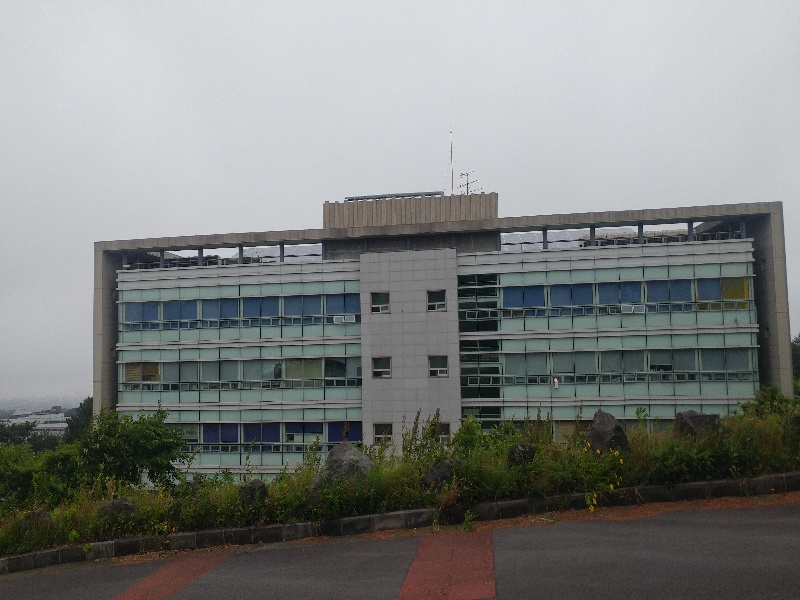College of Marine Science: (91, 172, 792, 453)
